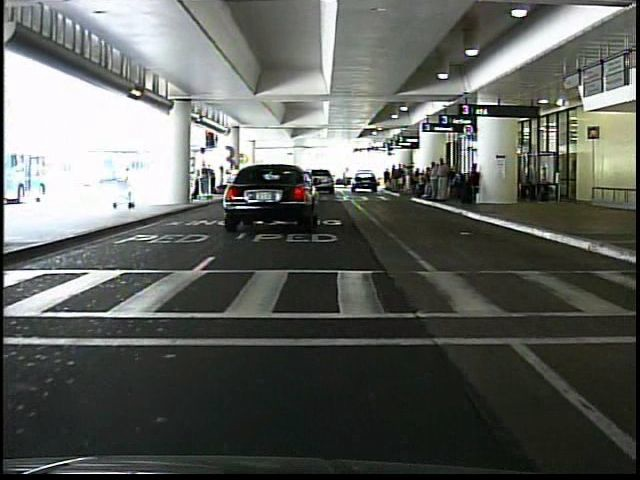person: (433, 154, 454, 206), (119, 164, 140, 210)
